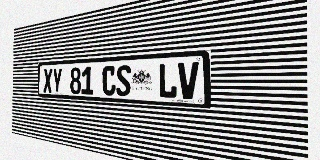1: (81, 66, 93, 95)
8: (70, 67, 81, 94)
C: (102, 65, 116, 96)
L: (158, 63, 177, 99)
S: (116, 65, 131, 96)
V: (178, 62, 199, 100)
X: (43, 68, 52, 93)
Y: (52, 68, 62, 93)
